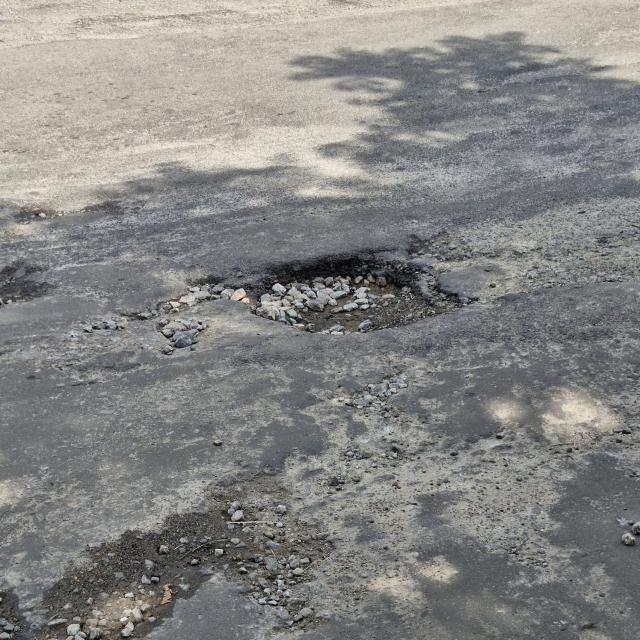pothole: (210, 243, 472, 345), (38, 506, 230, 640), (341, 371, 427, 623), (215, 461, 336, 639), (478, 187, 640, 293), (426, 436, 580, 536), (69, 297, 205, 356), (0, 254, 52, 306), (0, 575, 26, 637)
